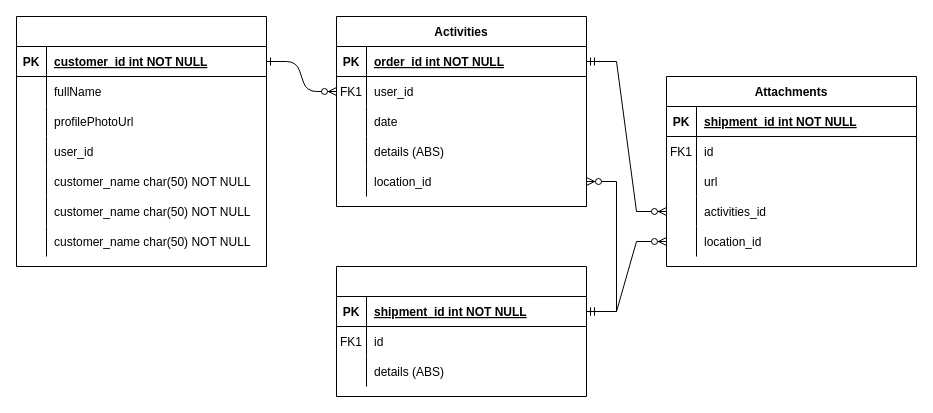
The diagram is 933 pixels wide and 413 high, and some of its shapes have lost their labels. The box of each missing label's shape, as (x1, y1, x2, y2) in pixels:
Location: (336, 266, 586, 396)
Users: (16, 16, 266, 266)
